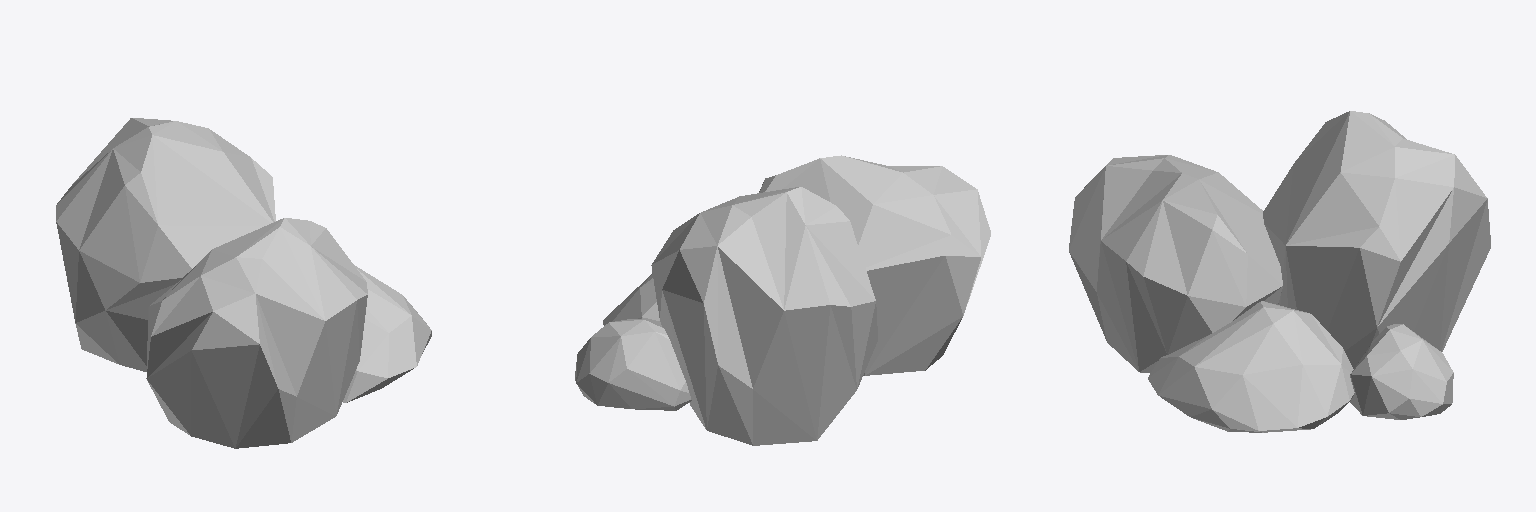
Rendered from glazy_2.2.obj.
3 views of the same model, side by side, from view 1: azimuth 30°, elevation 25°; view 2: azimuth 150°, elevation 25°; view 3: azimuth 270°, elevation 25° (orthographic).
Visible parts, largest first — view 1: rock.008; view 2: rock.008; view 3: rock.008.
Part boxes in pixels (left/top/right/bottom): rock.008: left=56, top=118, right=431, bottom=448; rock.008: left=575, top=155, right=990, bottom=445; rock.008: left=1069, top=111, right=1490, bottom=432.
Bounding box in the file's own units: 22.82 × 15.33 × 26.24.